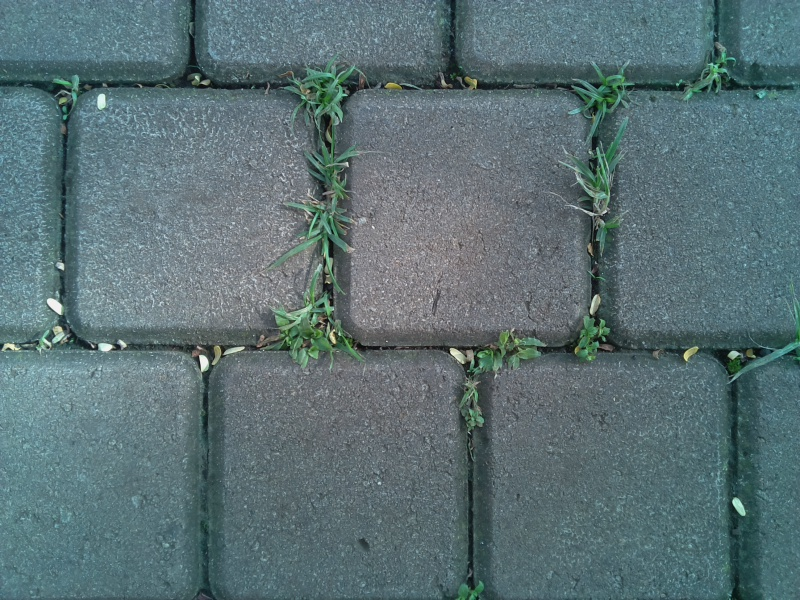Weed: (566, 137, 633, 250), (282, 196, 357, 291), (277, 61, 361, 128), (265, 304, 341, 368), (303, 138, 374, 206), (472, 324, 547, 378), (571, 65, 638, 125), (678, 47, 738, 98), (571, 314, 617, 372), (452, 371, 496, 430), (47, 72, 82, 121), (32, 320, 55, 361), (451, 575, 487, 600)
